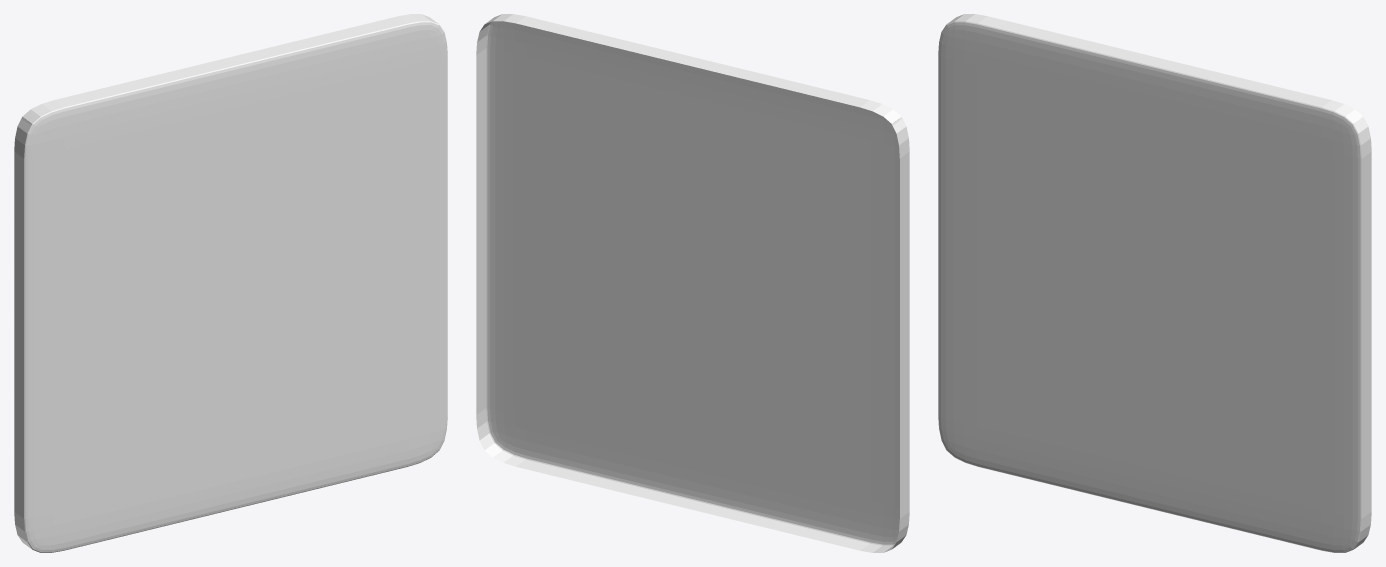
File: panel.dae
3 renders of one model, left to right at view 1: azimuth 30°, elevation 25°; view 2: azimuth 150°, elevation 25°; view 3: azimuth 330°, elevation 25°, orthographic.
Parts seen in each view (by area): view 1: Cube; view 2: Cube; view 3: Cube.
Boxes of the visible parts, bbox=[...] form: Cube: bbox=[14, 14, 447, 552]; Cube: bbox=[476, 14, 909, 552]; Cube: bbox=[938, 14, 1371, 552].
Size of the model in its own units: 1 by 0.0453 by 1.
Materials: 1 (1 with a texture image).
